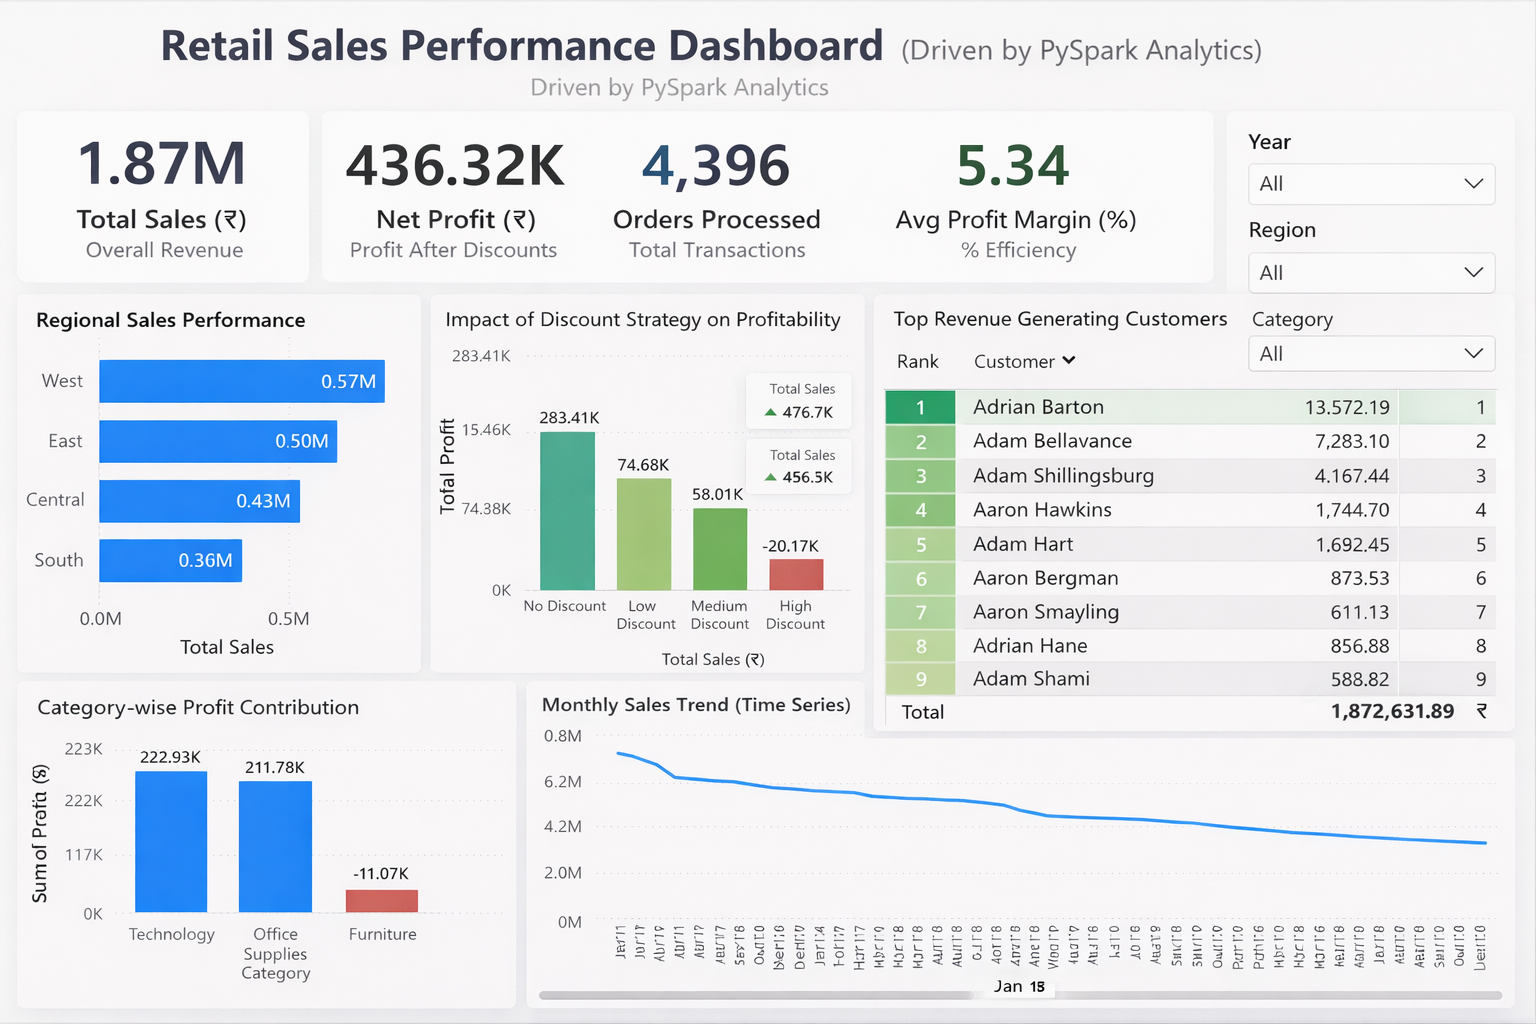

The dashboard page shown, as its layout file describes it:
{"tool":"powerbi","page":{"name":"Page 1","canvas":[1280,720],"ordinal":0},"visuals":[{"type":"card","fields":{"Values":["Retail_sales_TRANSFORMED csv.Sales_Double"]},"box":[10.1,0,328.1,162],"z":0},{"type":"card","fields":{"Values":["Retail_sales_TRANSFORMED csv.Profit"]},"box":[352.8,1.7,323,160.7],"z":1},{"type":"card","fields":{"Values":["Retail_sales_TRANSFORMED csv.Order ID"]},"box":[690.8,0,273.3,162.3],"z":2},{"type":"card","fields":{"Values":["Retail_sales_TRANSFORMED csv.ProfitMargin"]},"box":[979,1.7,301.5,160.7],"z":3},{"type":"barChart","fields":{"Category":["Retail_sales_TRANSFORMED csv.Region"],"Y":["Retail_sales_TRANSFORMED csv.Sales_Double"]},"box":[9.9,182.2,354.5,313.1],"z":4},{"type":"columnChart","fields":{"Category":["Retail_sales_TRANSFORMED csv.Category"],"Y":["Retail_sales_TRANSFORMED csv.Profit"]},"box":[9.9,495.3,354.5,225.3],"z":5},{"type":"clusteredColumnChart","fields":{"Category":["Retail_sales_TRANSFORMED csv.Discount_Band"],"Y":["Retail_sales_TRANSFORMED csv.Profit"]},"box":[364.4,182.2,450.6,250.1],"z":6},{"type":"lineChart","fields":{"Category":["monthly_sales.Month","monthly_sales.Year"],"Y":["monthly_sales.Monthly_Sales"]},"box":[364.4,445.6,916,275],"z":7},{"type":"tableEx","fields":{"Values":["Retail_sales_TRANSFORMED csv.Customer Name","Retail_sales_TRANSFORMED csv.Sales_Double"]},"box":[815,182.2,465.5,250.1],"z":8}]}

Visuals, with their boxes on the page's 1280x720 design canvas (x1, y1, x2, y2). These are canvas units, not pixel positions in the 1536x1024 screenshot, which may show the page scaled, cropped or inside an application window:
card - Retail_sales_TRANSFORMED csv.Sales_Double: [left=10, top=0, right=338, bottom=162]
card - Retail_sales_TRANSFORMED csv.Profit: [left=353, top=2, right=676, bottom=162]
card - Retail_sales_TRANSFORMED csv.Order ID: [left=691, top=0, right=964, bottom=162]
card - Retail_sales_TRANSFORMED csv.ProfitMargin: [left=979, top=2, right=1280, bottom=162]
barChart - Retail_sales_TRANSFORMED csv.Region x Retail_sales_TRANSFORMED csv.Sales_Double: [left=10, top=182, right=364, bottom=495]
columnChart - Retail_sales_TRANSFORMED csv.Category x Retail_sales_TRANSFORMED csv.Profit: [left=10, top=495, right=364, bottom=721]
clusteredColumnChart - Retail_sales_TRANSFORMED csv.Discount_Band x Retail_sales_TRANSFORMED csv.Profit: [left=364, top=182, right=815, bottom=432]
lineChart - monthly_sales.Month x monthly_sales.Year: [left=364, top=446, right=1280, bottom=721]
tableEx - Retail_sales_TRANSFORMED csv.Customer Name x Retail_sales_TRANSFORMED csv.Sales_Double: [left=815, top=182, right=1280, bottom=432]
